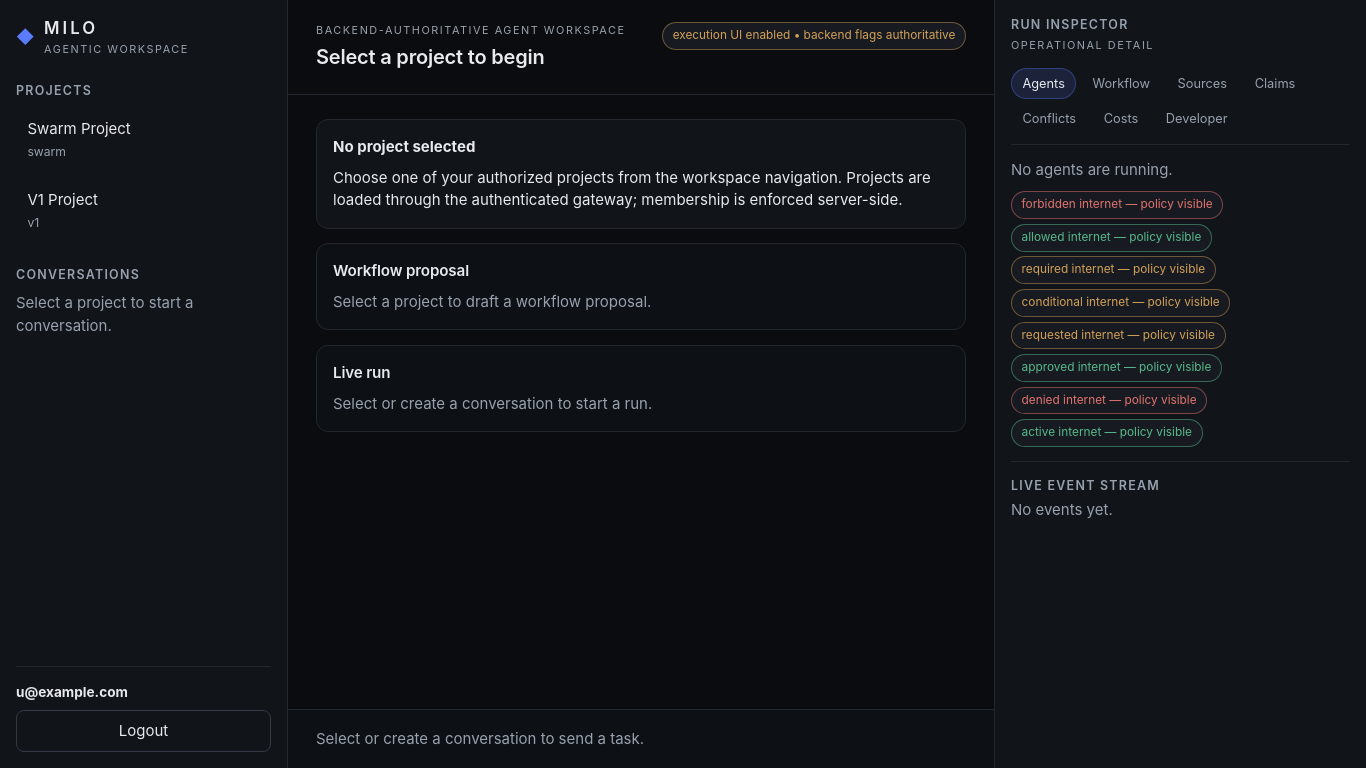
the Mapping Plan surface › states coverage as the server stated it, never a fabricated zero
The image size is (1366, 768).
Click the text "Swarm Project" at point(79, 128), box 27,119 -> 131,138
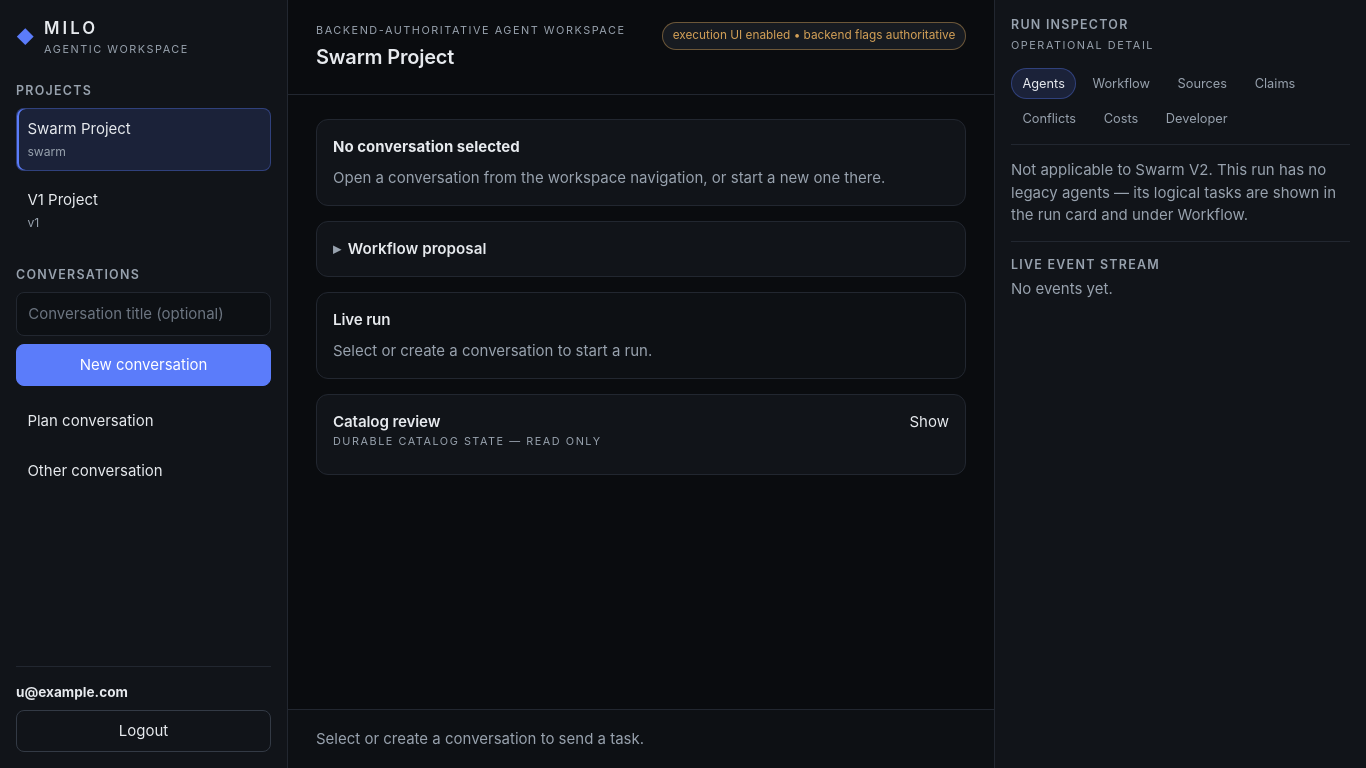
Click the button "Plan conversation" at point(144, 421), box 16,400 -> 271,442
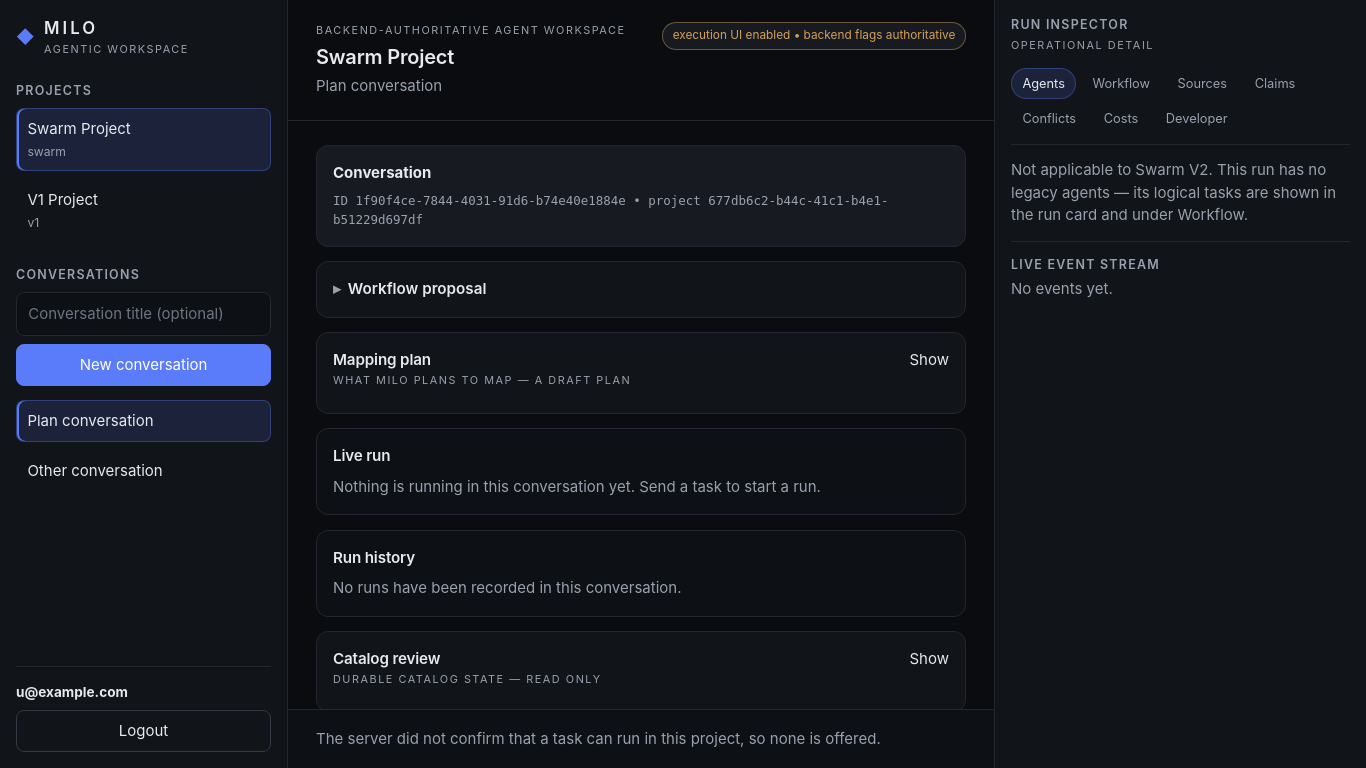
Click the button "Show" in the row of "Mapping plan" at point(929, 361), box 910,350 -> 949,372
(page scrolled)
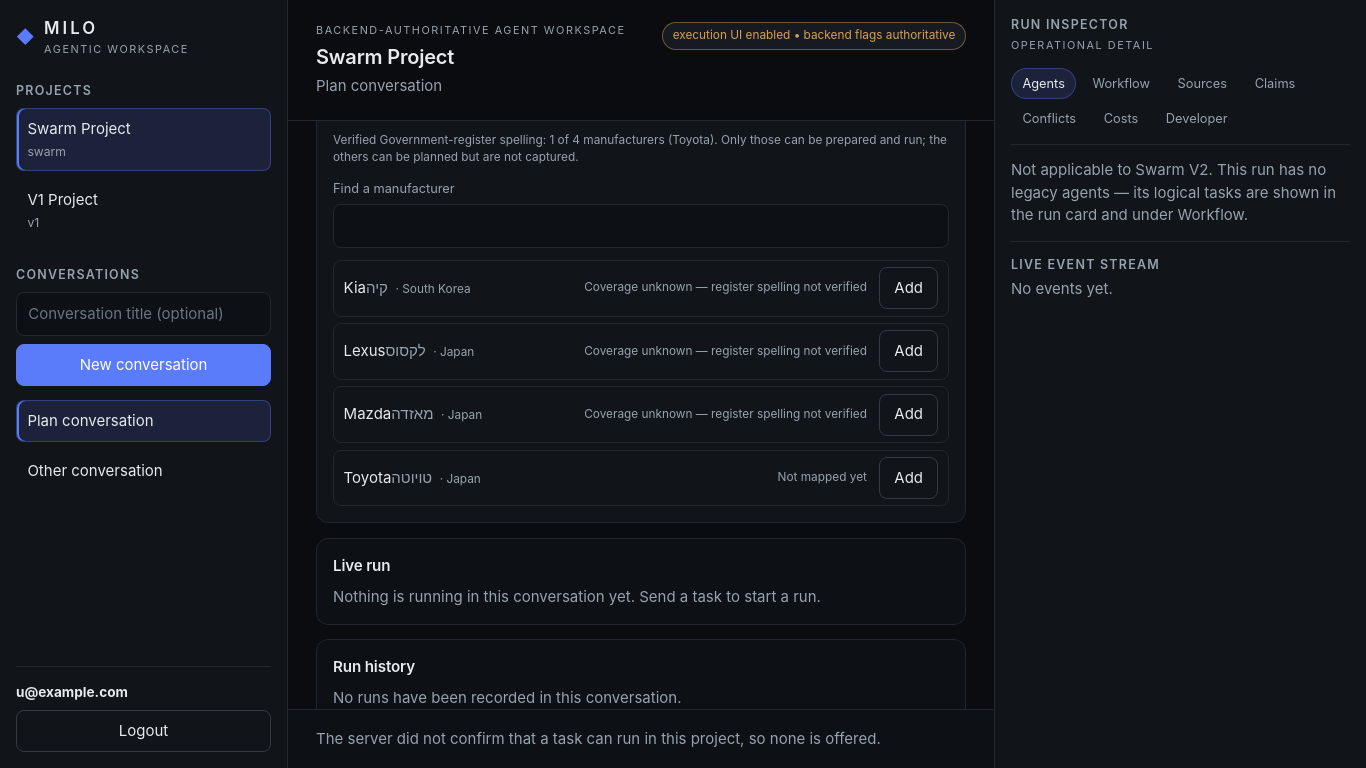
expect the list item "Toyota" shows "Not mapped yet": met, box 778,470 -> 867,484
expect the list item "Mazda" shows "Coverage unknown — register spelling not verified": met, box 584,407 -> 867,421
